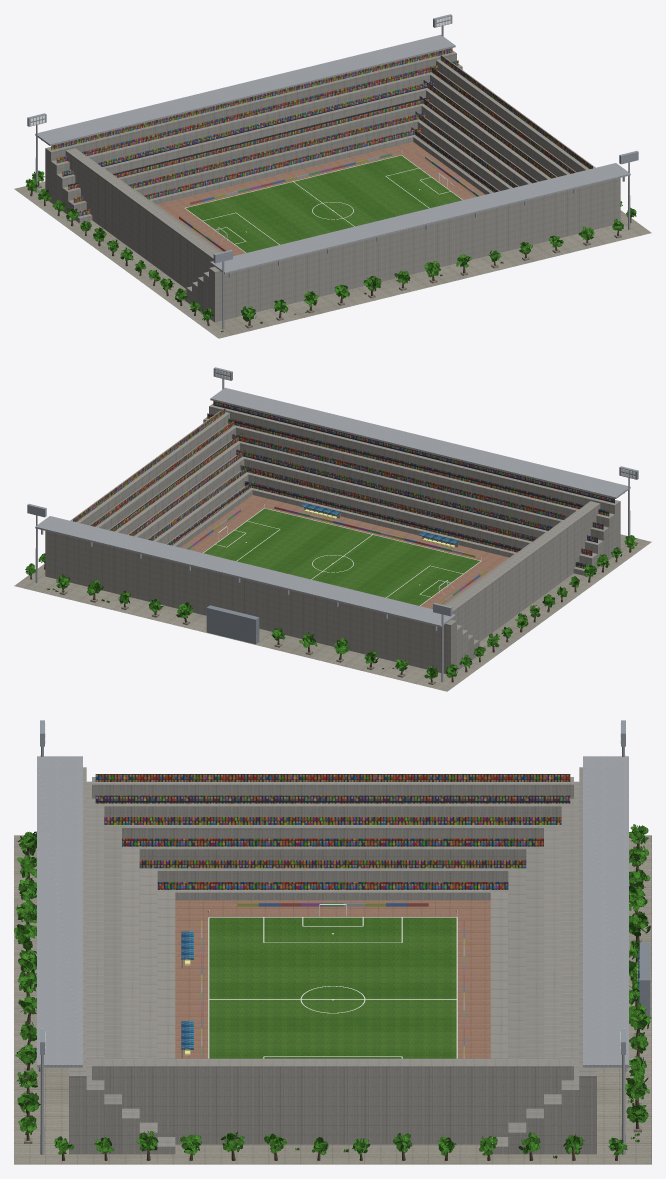
The model's file is football-stadium.glb.
3 renders of one model, top to bottom at view 1: azimuth 30°, elevation 25°; view 2: azimuth 150°, elevation 25°; view 3: azimuth 270°, elevation 25°, orthographic. The views are drawn at different scales.
Visible parts, largest first — view 1: Scenery_concrete, Scenery_metal, Scenery_crowd, Scenery_pitch, Scenery_leaf, Scenery_misc; view 2: Scenery_concrete, Scenery_metal, Scenery_crowd, Scenery_pitch, Scenery_leaf, Scenery_misc; view 3: Scenery_concrete, Scenery_pitch, Scenery_metal, Scenery_crowd, Scenery_leaf, Scenery_misc, Scenery_barkA, Scenery_glass.
Part boxes in pixels (x1,y1,x2,y2): Scenery_concrete: (14, 50, 651, 338); Scenery_metal: (27, 14, 638, 329); Scenery_crowd: (51, 48, 592, 216); Scenery_pitch: (185, 155, 462, 252); Scenery_leaf: (25, 170, 636, 321); Scenery_misc: (30, 16, 462, 252); Scenery_concrete: (14, 403, 651, 691); Scenery_metal: (27, 367, 638, 682); Scenery_crowd: (73, 401, 614, 568); Scenery_pitch: (203, 508, 480, 605); Scenery_leaf: (25, 535, 637, 678); Scenery_misc: (203, 369, 635, 605); Scenery_concrete: (14, 767, 651, 1164); Scenery_pitch: (209, 917, 456, 1058); Scenery_metal: (37, 720, 650, 1154); Scenery_crowd: (95, 774, 570, 889); Scenery_leaf: (14, 824, 651, 1156); Scenery_misc: (45, 723, 637, 1058); Scenery_barkA: (25, 836, 642, 1160); Scenery_glass: (181, 931, 639, 1049).
Bounding box in the file's own units: 220 × 37 × 180.
Materials: 11 (10 with a texture image).
